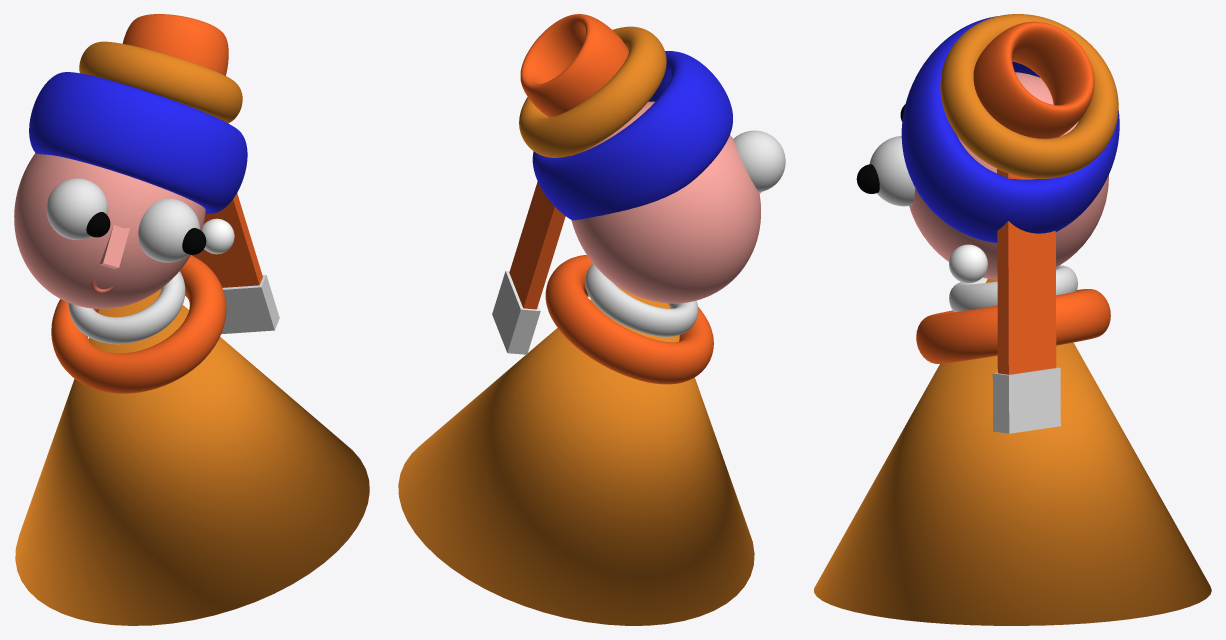
3 views of the same model, side by side, from view 1: azimuth 30°, elevation 25°; view 2: azimuth 150°, elevation 25°; view 3: azimuth 270°, elevation 25° (orthographic). The views are drawn at different scales.
Parts seen in each view (by area): view 1: 锥体.001, 环体.001, 球体, 环体.005, 环体.002, 环体.003, 环体.004, 立方体.001, 球体.002, 球体.001, 立方体.002, 球体.003 (+2 smaller); view 2: 锥体.001, 球体, 环体.001, 环体.005, 环体.002, 环体.003, 立方体.001, 环体.004, 立方体.002, 球体.001; view 3: 锥体.001, 环体.001, 环体.002, 环体.003, 立方体.001, 环体.005, 球体, 立方体.002, 球体.002, 环体.004, 球体.003, 球体.005.
Boxes of the visible parts, left/top/right/bottom form: 锥体.001: left=15, top=289, right=369, bottom=625; 环体.001: left=29, top=72, right=247, bottom=213; 球体: left=14, top=153, right=205, bottom=308; 环体.005: left=51, top=255, right=226, bottom=393; 环体.002: left=79, top=41, right=242, bottom=123; 环体.003: left=122, top=14, right=228, bottom=75; 环体.004: left=68, top=271, right=185, bottom=344; 立方体.001: left=192, top=193, right=262, bottom=287; 球体.002: left=138, top=198, right=199, bottom=262; 球体.001: left=46, top=178, right=108, bottom=239; 立方体.002: left=221, top=275, right=279, bottom=333; 球体.003: left=201, top=218, right=234, bottom=254; 锥体.001: left=398, top=284, right=754, bottom=625; 球体: left=571, top=101, right=760, bottom=303; 环体.001: left=532, top=51, right=732, bottom=220; 环体.005: left=545, top=255, right=713, bottom=384; 环体.002: left=519, top=26, right=666, bottom=157; 环体.003: left=520, top=14, right=628, bottom=117; 立方体.001: left=509, top=153, right=577, bottom=309; 环体.004: left=585, top=263, right=698, bottom=336; 立方体.002: left=492, top=270, right=540, bottom=354; 球体.001: left=733, top=130, right=785, bottom=192; 锥体.001: left=814, top=278, right=1211, bottom=625; 环体.001: left=901, top=16, right=1119, bottom=242; 环体.002: left=940, top=14, right=1118, bottom=178; 环体.003: left=973, top=21, right=1094, bottom=138; 立方体.001: left=997, top=169, right=1056, bottom=374; 环体.005: left=916, top=289, right=1110, bottom=363; 球体: left=909, top=72, right=1108, bottom=279; 立方体.002: left=992, top=367, right=1060, bottom=433; 球体.002: left=869, top=136, right=915, bottom=206; 环体.004: left=949, top=265, right=1077, bottom=312; 球体.003: left=949, top=244, right=987, bottom=283; 球体.005: left=856, top=164, right=879, bottom=193.
Bounding box in the file's own units: 3.42 × 5.52 × 3.3.
